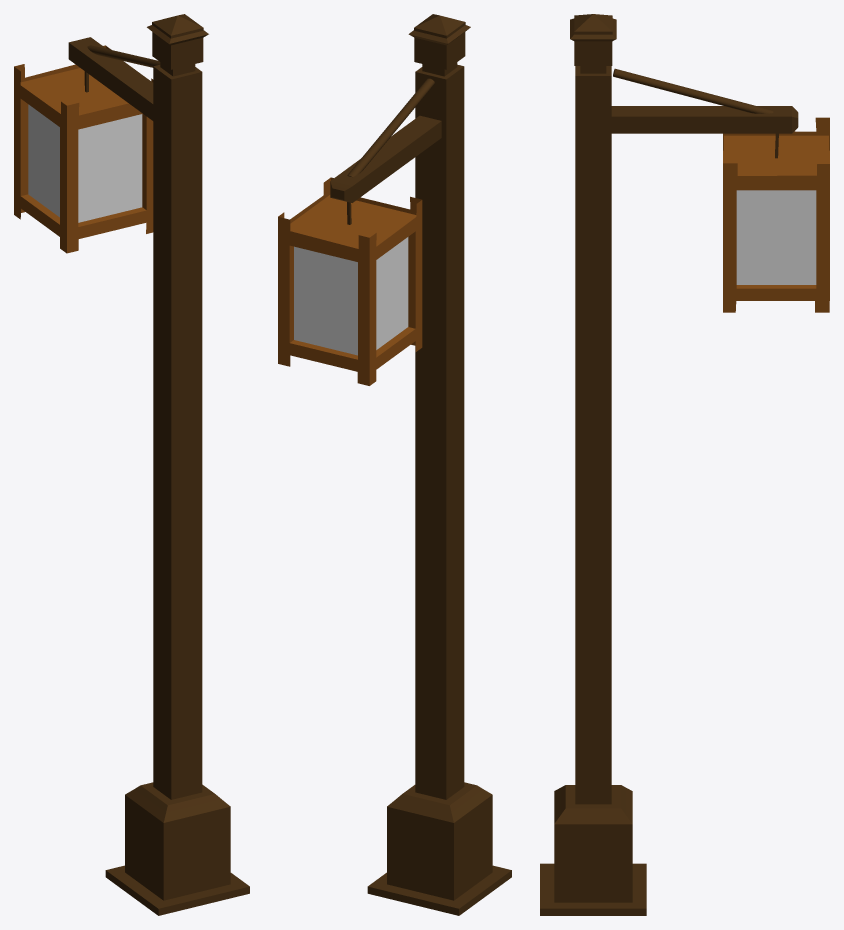
The picture shows the model from 3 angles, left to right: view 1: azimuth 30°, elevation 25°; view 2: azimuth 150°, elevation 25°; view 3: azimuth 270°, elevation 25°; orthographic projection.
Visible parts, largest first — view 1: 柱体.007, 柱体.004, 柱体.002, 柱体; view 2: 柱体.007, 柱体.004, 柱体.002, 柱体; view 3: 柱体.007, 柱体.004, 柱体.002, 柱体.
Boxes of the visible parts, x1,y1,x2,y2 form: 柱体.007: (105,14,249,915); 柱体.004: (14,45,153,253); 柱体.002: (68,37,153,120); 柱体: (87,45,160,67); 柱体.007: (367,14,511,915); 柱体.004: (278,177,422,385); 柱体.002: (330,115,441,202); 柱体: (347,78,434,177); 柱体.007: (540,14,646,915); 柱体.004: (723,117,829,312); 柱体.002: (611,106,798,133); 柱体: (613,68,773,113).
Size of the model in its own units: 424 by 3810 by 1139.
